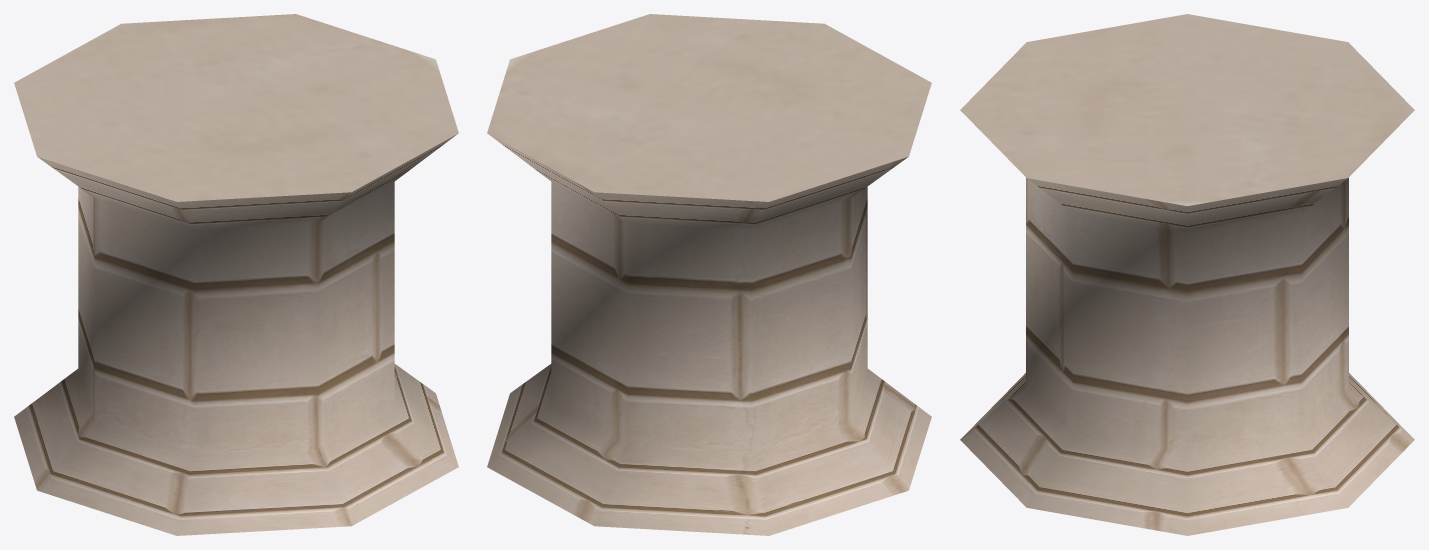
The model's file is column.FBX.
3 views of the same model, side by side, from view 1: azimuth 30°, elevation 25°; view 2: azimuth 150°, elevation 25°; view 3: azimuth 270°, elevation 25° (orthographic).
Parts seen in each view (by area): view 1: column; view 2: column; view 3: column.
Part boxes in pixels (left/top/right/bottom): column: left=14, top=14, right=458, bottom=535; column: left=487, top=14, right=931, bottom=535; column: left=960, top=14, right=1414, bottom=535.
Size of the model in its own units: 100 by 80 by 100.
